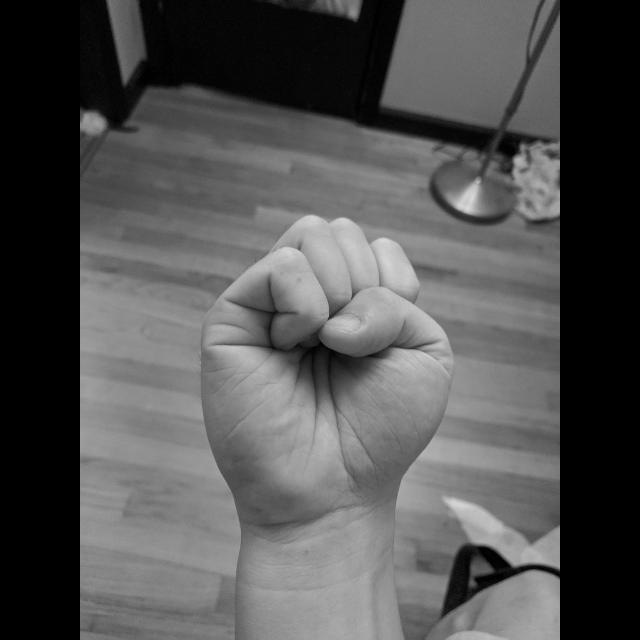E: (193, 208, 459, 536)
